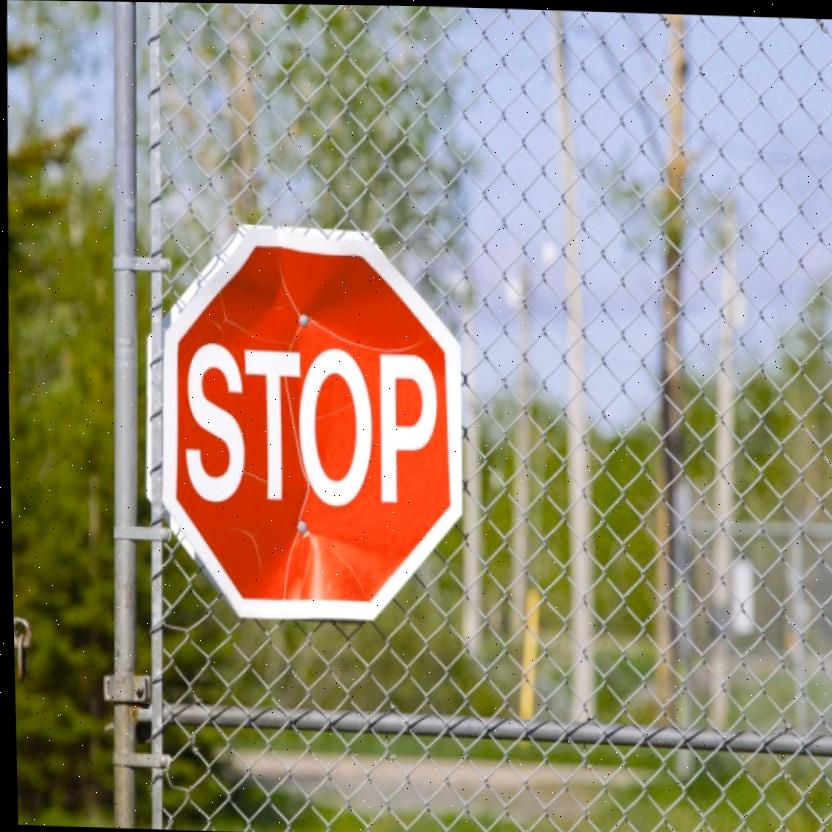Sign: (153, 218, 470, 626)
